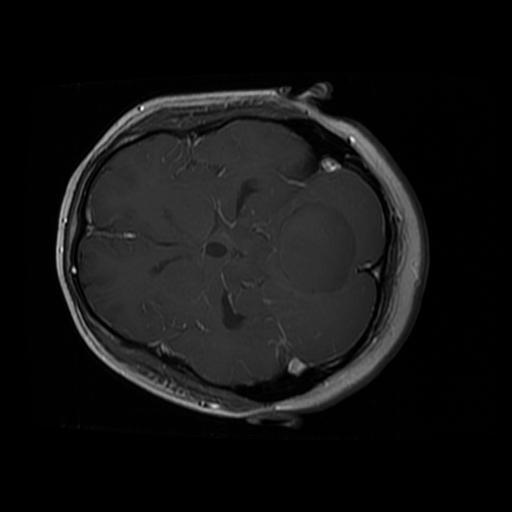glioma: (280, 207, 352, 291)
